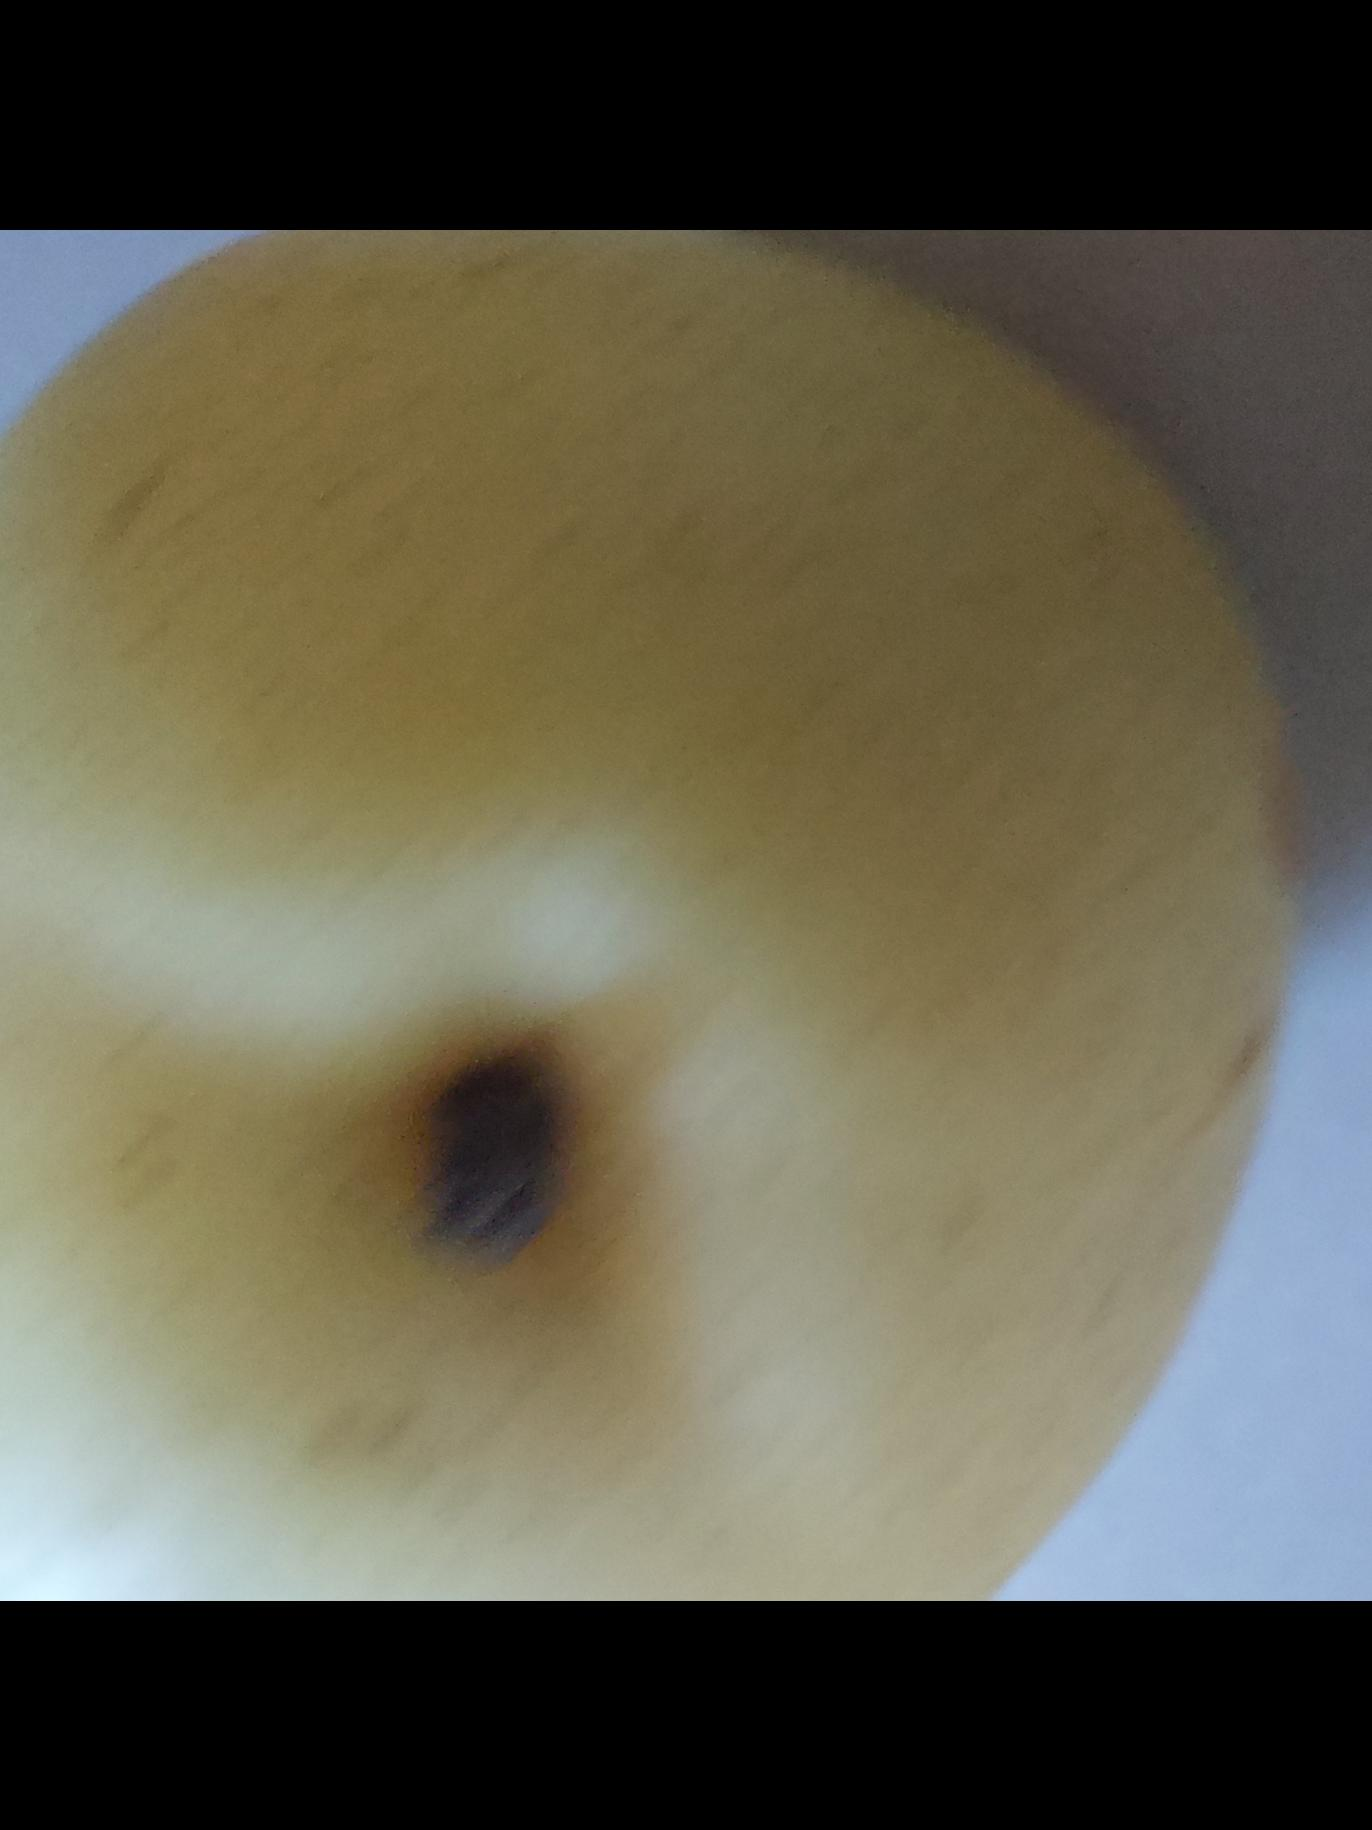Good Pear: (0, 229, 1310, 1601)
